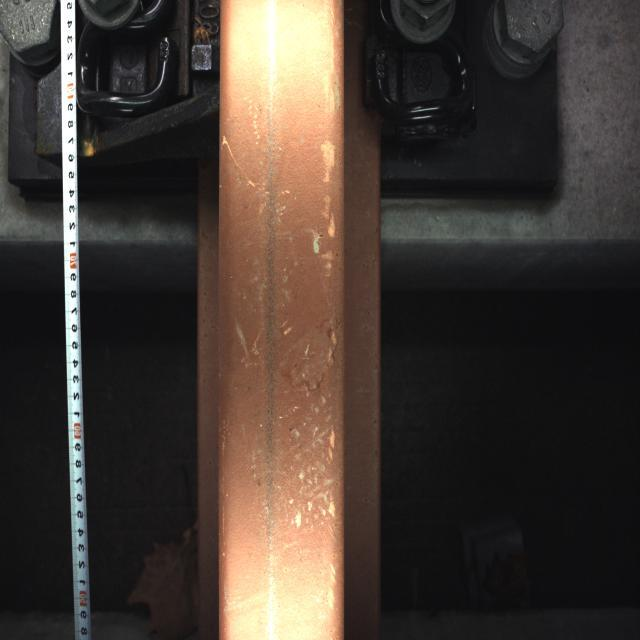normal: (230, 46, 342, 579)
